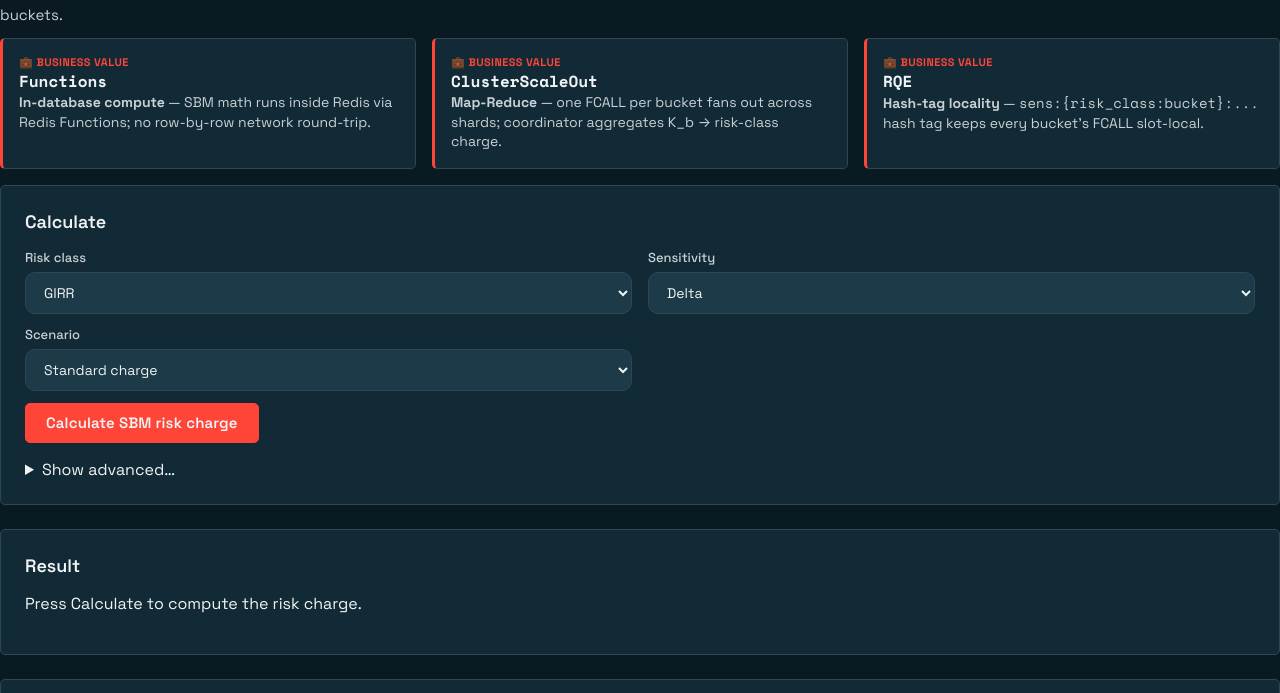
Test: CalcPanel Wave 5.18 polish + drill-down › Wave 5.21a: GIRR Delta drill-down renders sparkline from tenor-keyed risk_value
This screenshot has width=1280, height=693.
Click the button "Calculate SBM risk charge" at {"x": 142, "y": 423}, box [25,403,259,443]
(page scrolled)
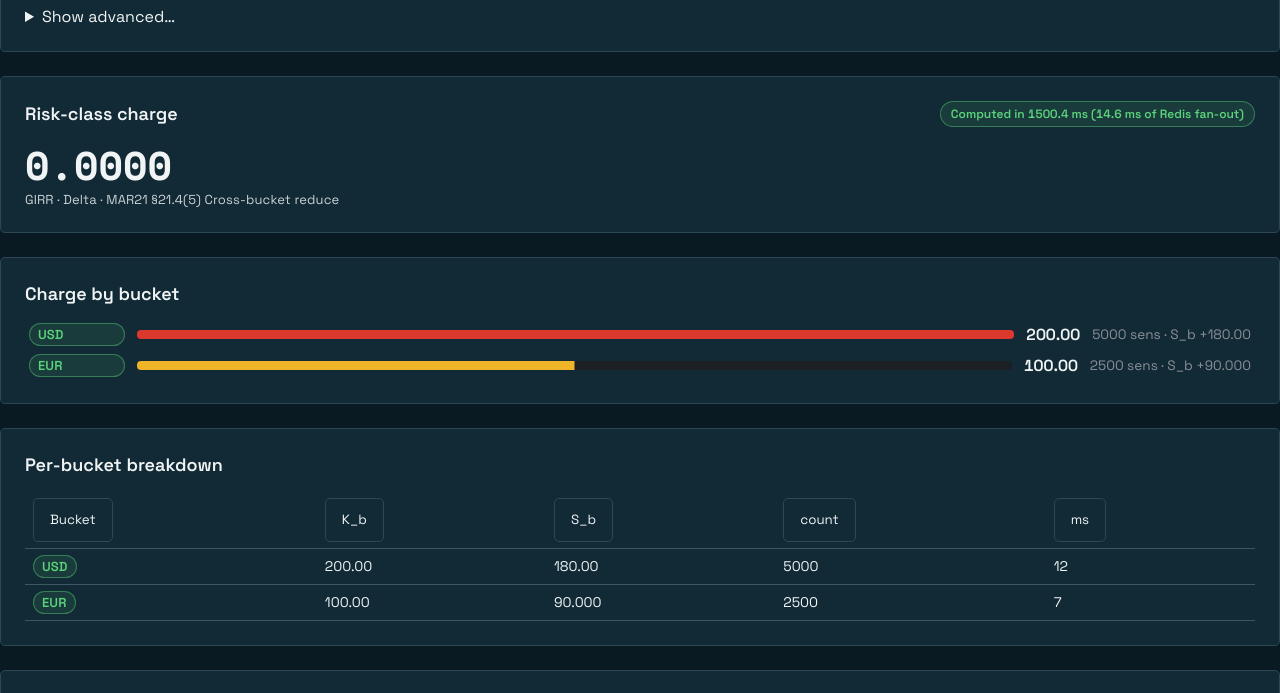
Result: the text "0.0000" is shown at [25,143,172,187]
Click the button with test id "bucket-chart-row" that starts with "USD" at {"x": 640, "y": 334}, box [25,321,1255,348]
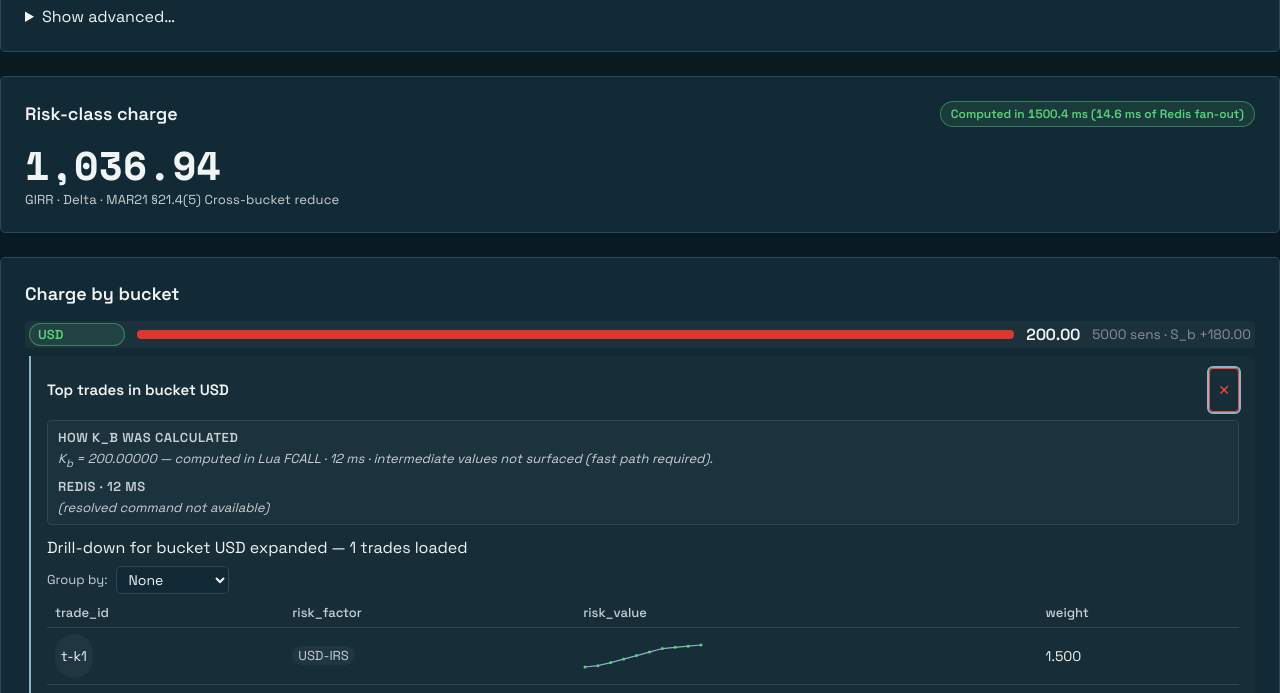
Result: the row with test id "drilldown-row" is shown at [47,627,1239,684]
